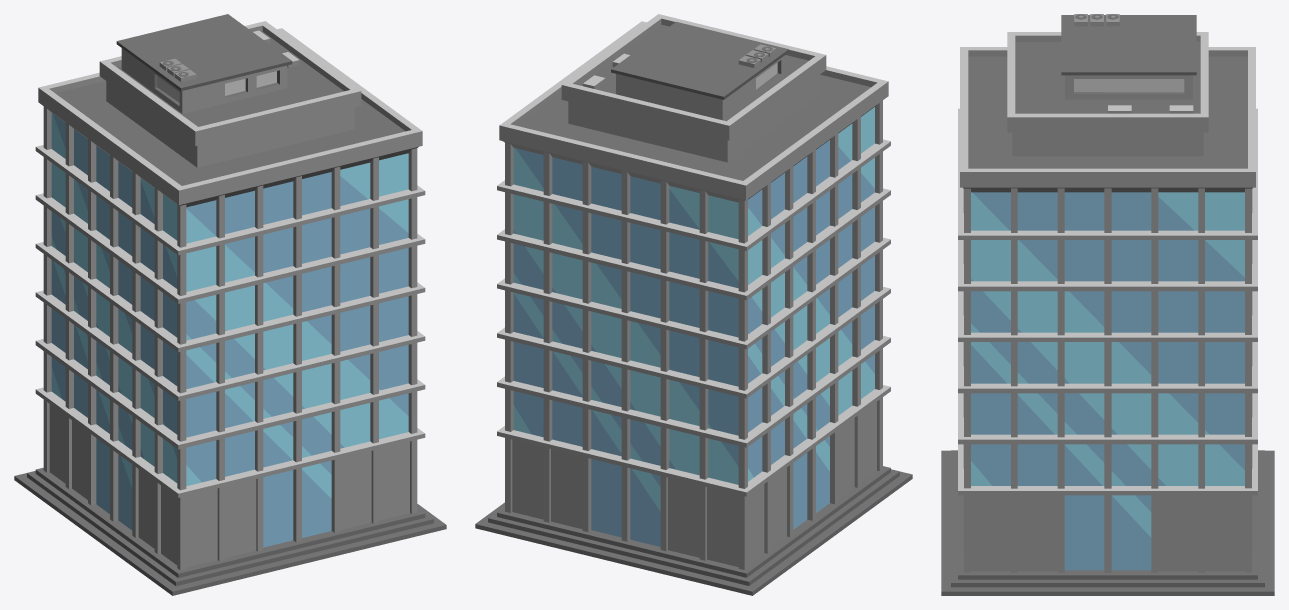
File: building_2_2_2_1.glb
3 renders of one model, left to right at view 1: azimuth 30°, elevation 25°; view 2: azimuth 150°, elevation 25°; view 3: azimuth 270°, elevation 25°, orthographic. The views are drawn at different scales.
Visible parts, largest first — view 1: building_1_2_2_10; view 2: building_1_2_2_10; view 3: building_1_2_2_10.
Part boxes in pixels (left/top/right/bottom): building_1_2_2_10: left=14, top=14, right=446, bottom=595; building_1_2_2_10: left=475, top=14, right=912, bottom=595; building_1_2_2_10: left=941, top=14, right=1274, bottom=595.
Size of the model in its own units: 28.16 by 44.62 by 28.16.
1 material, 1 textured.
